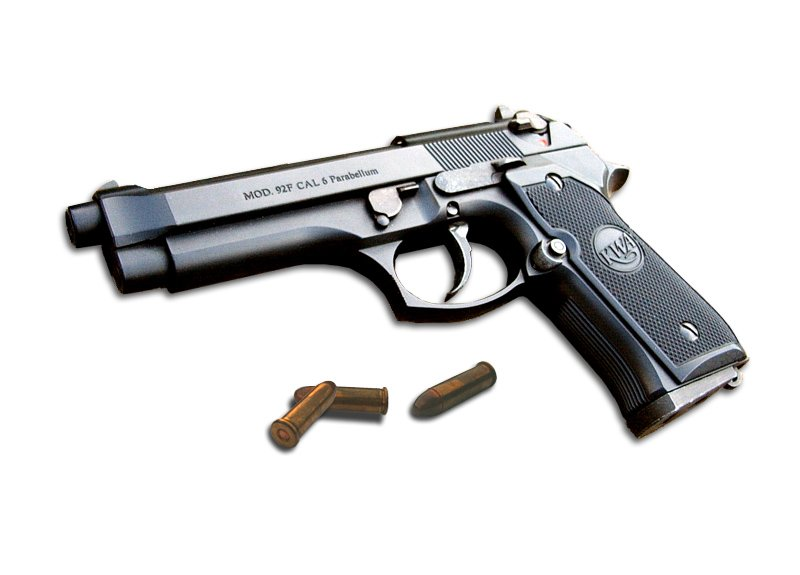gun: (64, 102, 751, 439)
